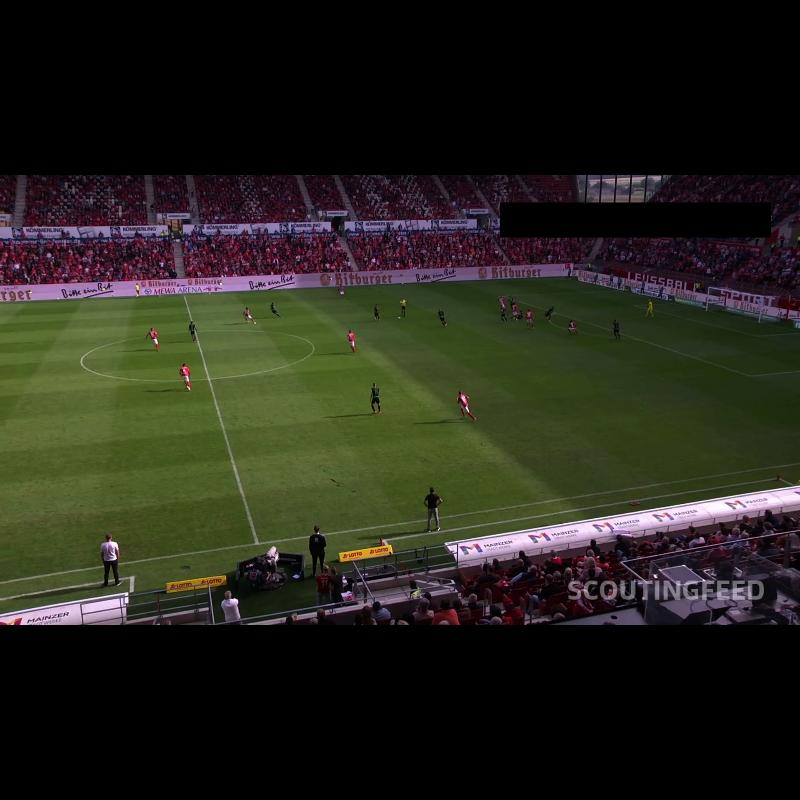cross_recipient_zone: (500, 290, 800, 375)
crossing_player_zone: (641, 370, 800, 464), (395, 278, 616, 300)
pitch: (0, 278, 800, 583)
